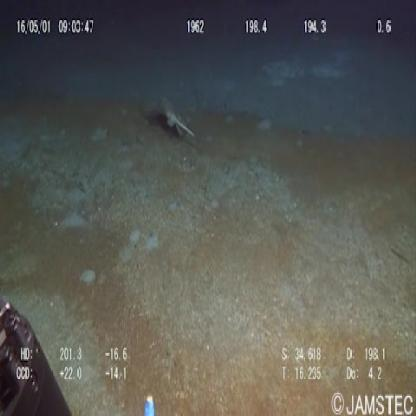Bio: (146, 94, 199, 145)
Rov: (1, 294, 74, 416)
